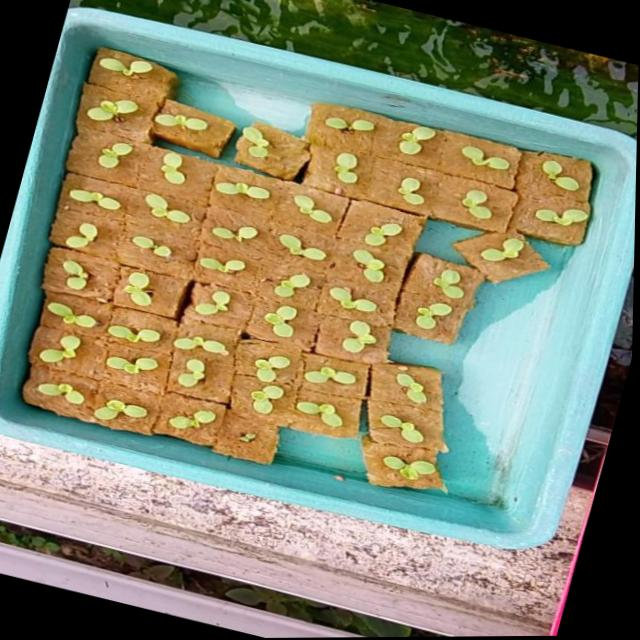Baby: (467, 233, 527, 271), (529, 159, 590, 195), (89, 141, 155, 173), (461, 149, 518, 179), (124, 236, 184, 264), (302, 358, 354, 390), (352, 250, 402, 283), (42, 299, 100, 327), (191, 283, 236, 317), (46, 260, 89, 295), (330, 282, 379, 312), (513, 194, 569, 220), (147, 194, 192, 224), (433, 264, 471, 299), (381, 451, 434, 475), (378, 410, 421, 438), (280, 234, 325, 260), (339, 319, 374, 351), (121, 272, 153, 307), (40, 334, 80, 361), (93, 398, 146, 418), (295, 402, 339, 426), (172, 335, 227, 354), (399, 128, 435, 157), (39, 381, 86, 403), (364, 220, 402, 247), (72, 190, 123, 210), (262, 304, 294, 335), (249, 380, 281, 410), (107, 324, 160, 342), (253, 353, 288, 380), (211, 224, 260, 243), (393, 370, 423, 400), (168, 407, 214, 426), (458, 191, 488, 220), (274, 274, 311, 297), (67, 224, 101, 249), (162, 154, 188, 185), (414, 306, 449, 329), (176, 358, 204, 386), (333, 154, 358, 184), (296, 196, 324, 222), (397, 178, 423, 206), (201, 257, 246, 273), (107, 355, 146, 372)
